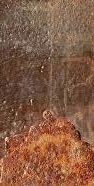Corrosion: (1, 110, 94, 186)
